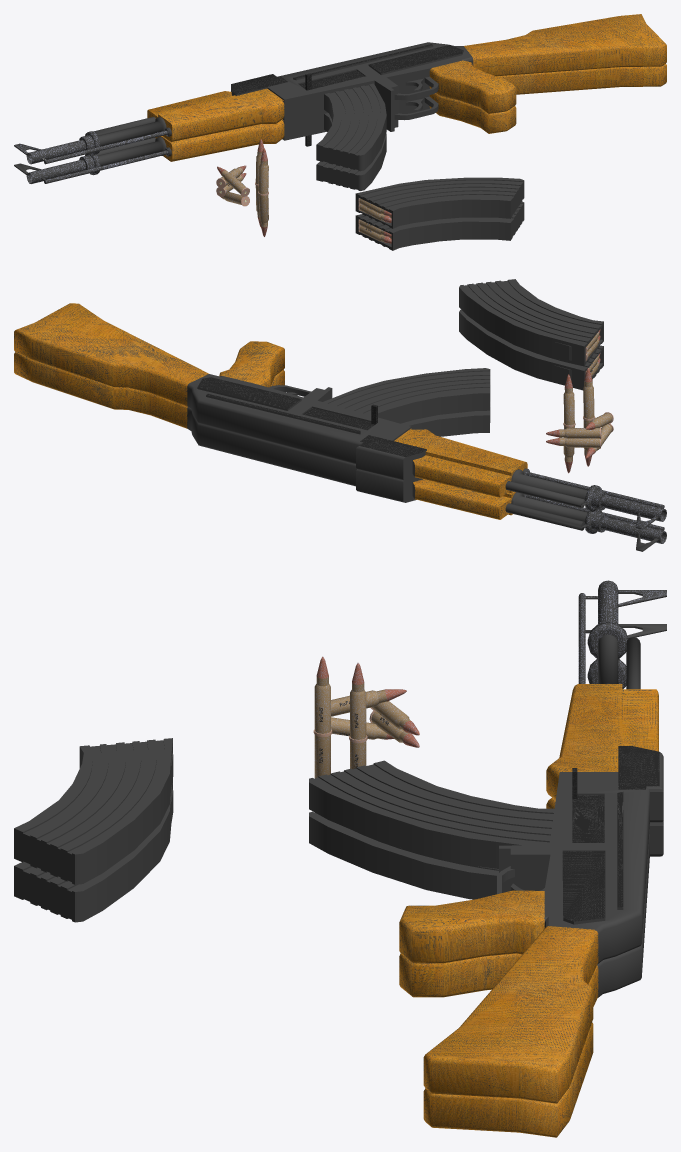
The picture shows the model from 3 angles, top to bottom: view 1: azimuth 30°, elevation 25°; view 2: azimuth 150°, elevation 25°; view 3: azimuth 270°, elevation 25°; orthographic projection. The views are drawn at different scales.
Parts seen in each view (by area): view 1: ak47 (×16), cardd (×2); view 2: ak47 (×16), cardd (×2), bala (×3); view 3: ak47 (×13), cardd (×2), bala (×2).
Part boxes in pixels (x1=…): ak47 (×16): x1=14, y1=14, x2=666, y2=190; cardd (×2): x1=355, y1=177, x2=524, y2=250; ak47 (×16): x1=14, y1=303, x2=666, y2=543; cardd (×2): x1=459, y1=279, x2=603, y2=390; bala (×3): x1=559, y1=381, x2=599, y2=438; ak47 (×13): x1=309, y1=580, x2=666, y2=1137; cardd (×2): x1=14, y1=738, x2=172, y2=922; bala (×2): x1=314, y1=677, x2=366, y2=739.
Size of what is drawn, in the model's own units: 457 by 253 by 64.57.
Materials: 11 (1 with a texture image).
